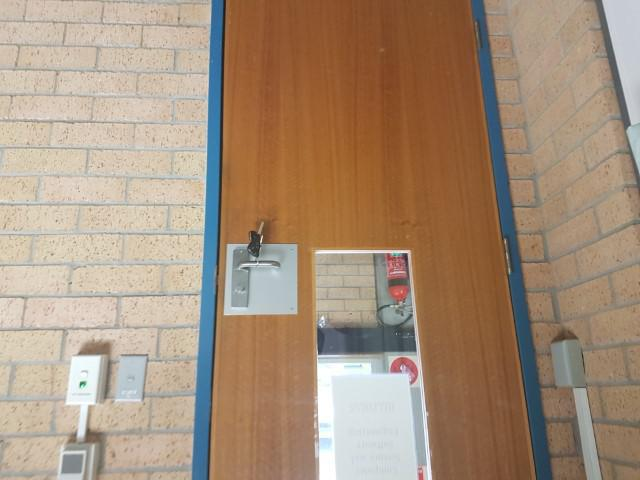key: (244, 221, 265, 255)
